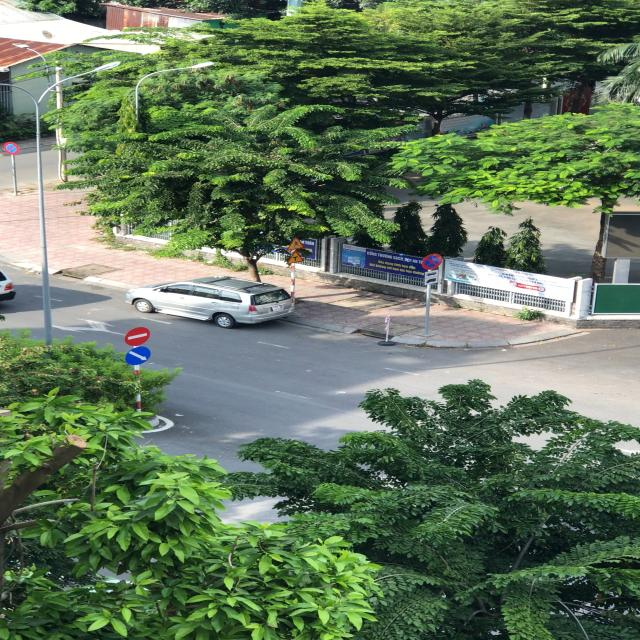Bien bao cam di nguoc chieu: (122, 326, 155, 346)
Bien bao duong giao nhau: (284, 250, 310, 265)
Bien bao duong nguoi di bo cat ngang: (285, 236, 306, 252)
Bien bao huong phai di vong chuong ngai vat: (123, 345, 153, 367)
